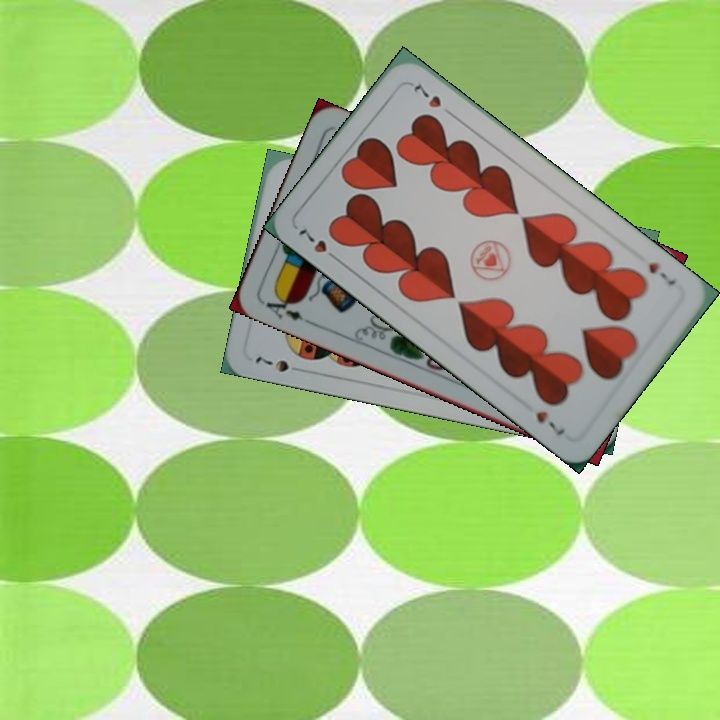EA: (258, 290, 306, 323)
H7: (294, 223, 344, 266), (644, 258, 679, 289)
S7: (251, 352, 307, 375)
